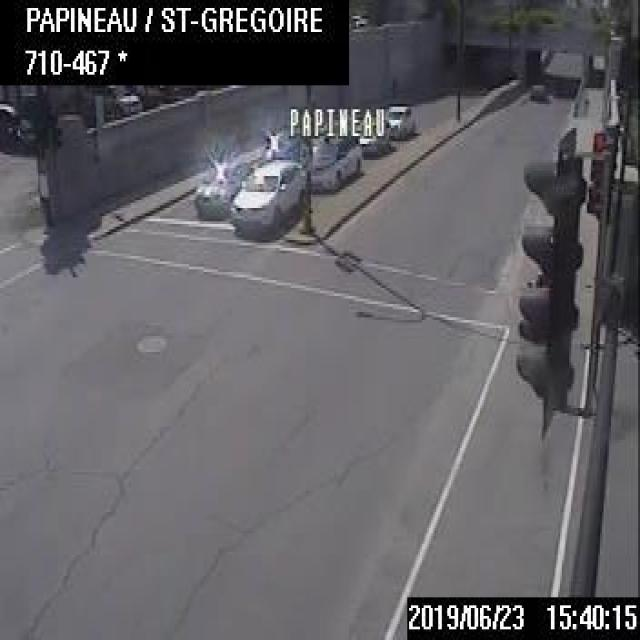vehicle: (231, 157, 307, 235), (305, 134, 361, 194), (194, 157, 240, 221), (102, 82, 144, 121), (262, 128, 307, 164), (386, 102, 418, 141), (358, 124, 392, 158), (529, 82, 547, 99)
